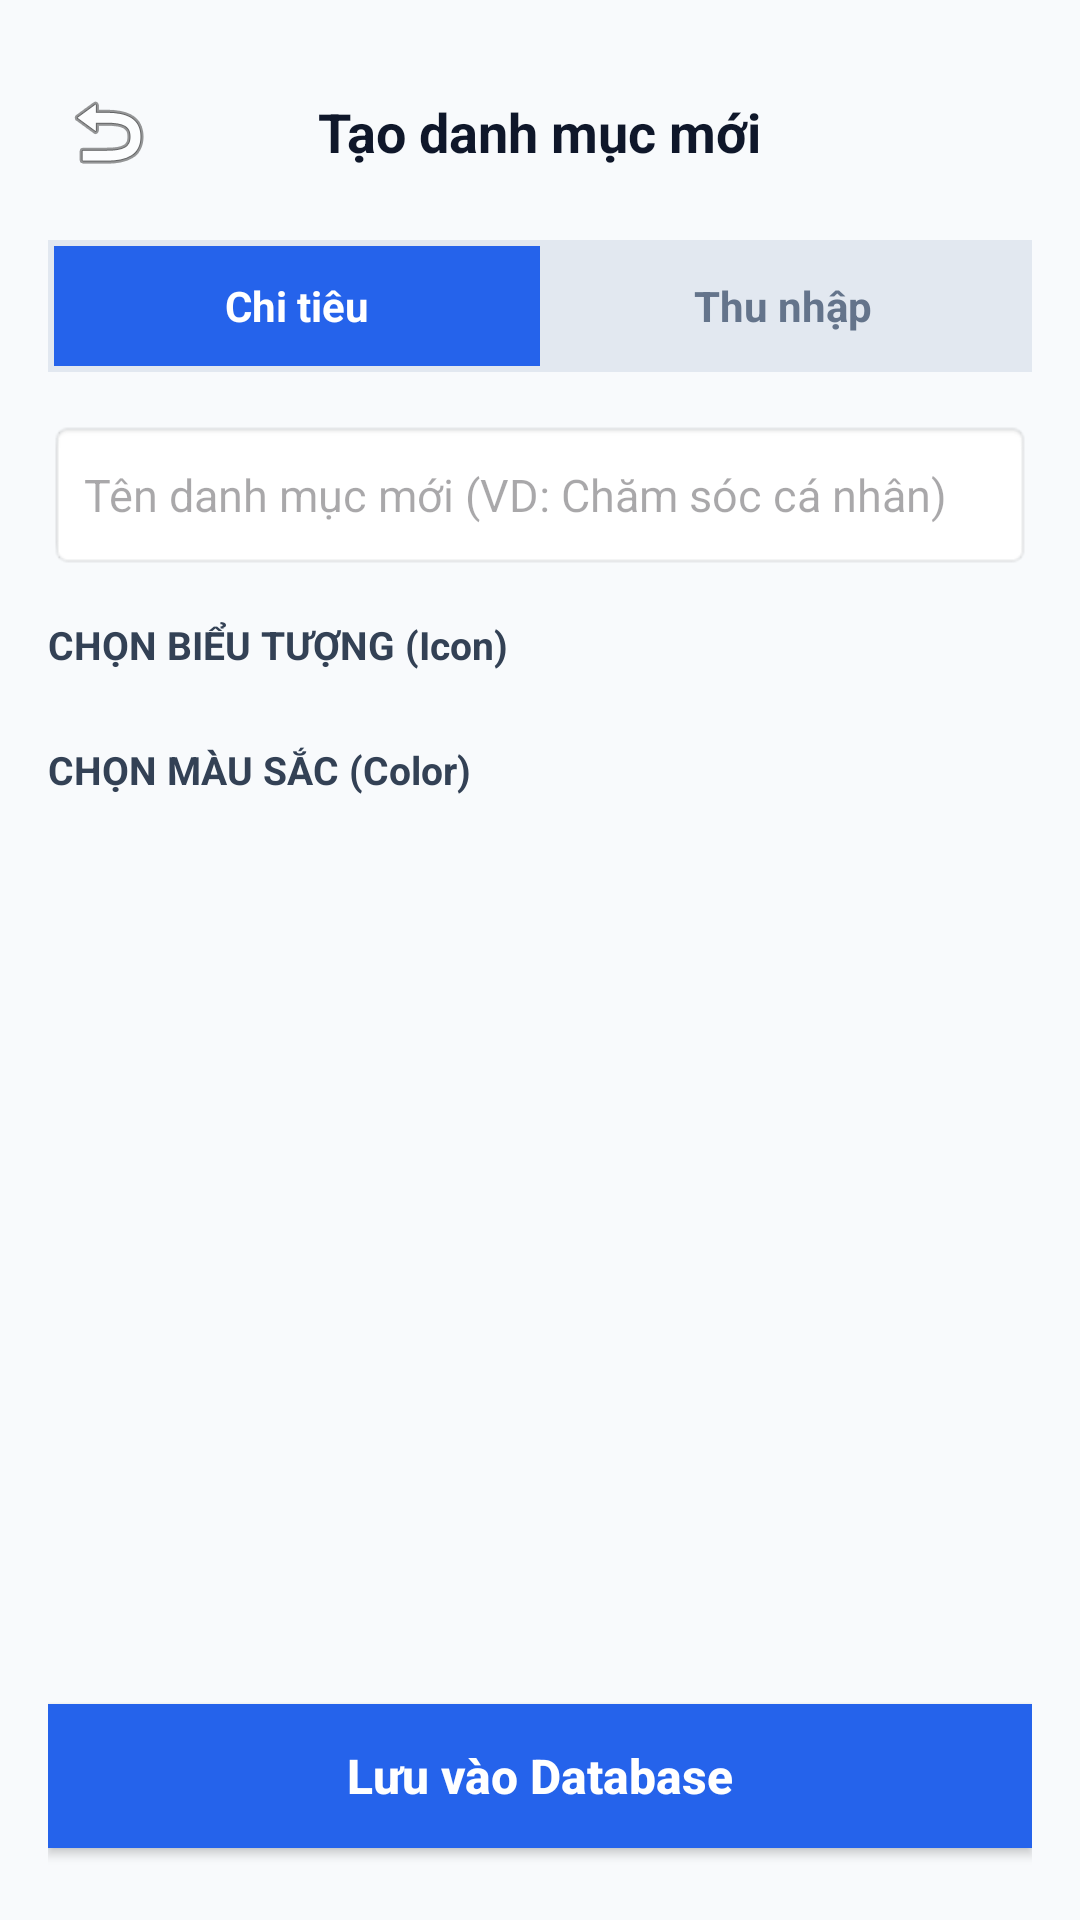

Icon bounding boxes for this 1080×1920 phone screenshot, format (x1, y1, x2, y2):
Quay lại: (75, 101, 144, 164)
